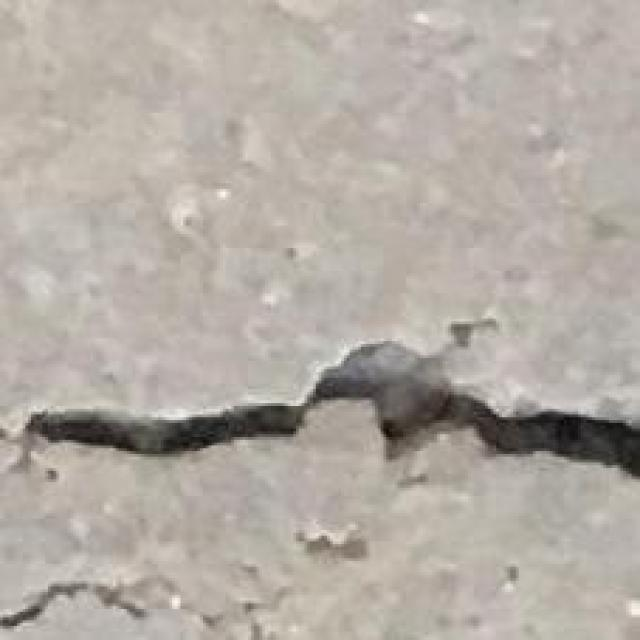horizontal crack: (23, 341, 639, 477)
